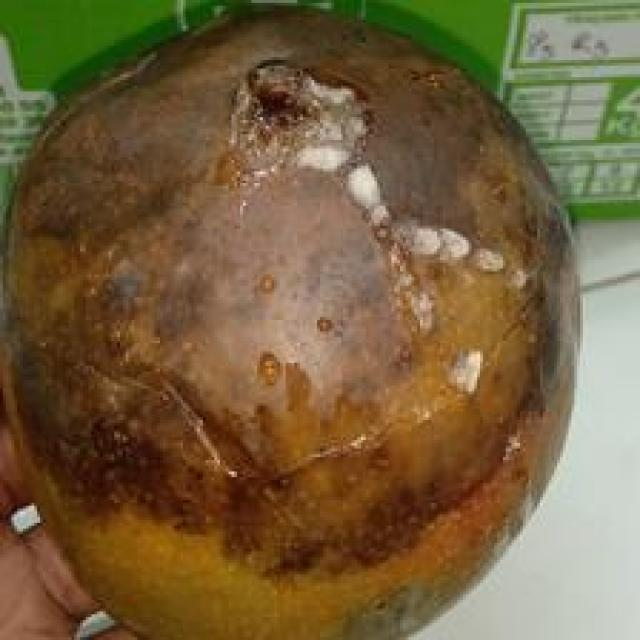Bad_Mango: (11, 12, 579, 640)
